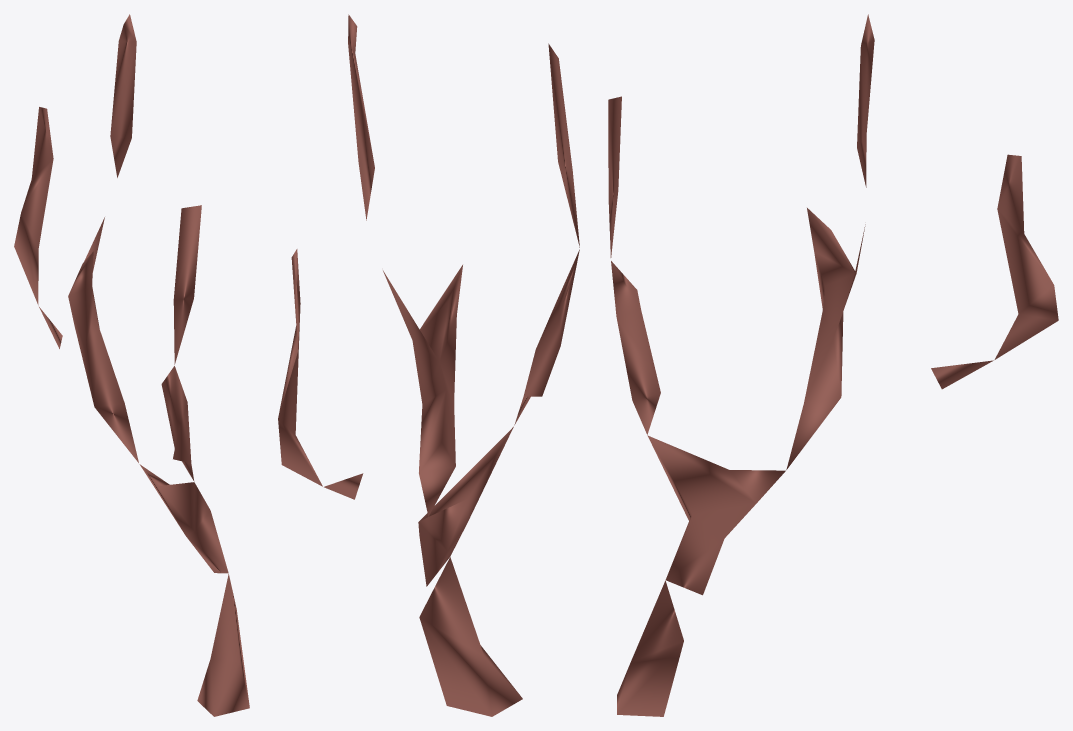
Rendered from Willow_Dead_1_lod.glb.
3 views of the same model, side by side, from view 1: azimuth 30°, elevation 25°; view 2: azimuth 150°, elevation 25°; view 3: azimuth 270°, elevation 25° (orthographic). The views are drawn at different scales.
Parts seen in each view (by area): view 1: Willow_Dead_1; view 2: Willow_Dead_1; view 3: Willow_Dead_1.
Boxes of the visible parts, x1,y1,x2,y2 form: Willow_Dead_1: (14,14,249,716); Willow_Dead_1: (278,14,579,716); Willow_Dead_1: (608,14,1058,716).
Bounding box in the file's own units: 43.91 × 269 × 158.
